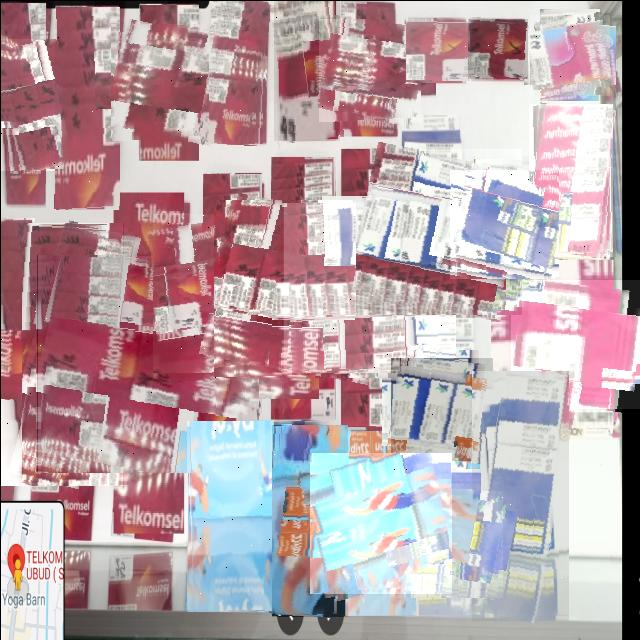Axis: (390, 357, 492, 460)
Gratis Nelpon: (355, 148, 521, 314), (471, 370, 568, 620), (449, 169, 558, 278), (395, 490, 502, 597)
Indosat-3: (529, 14, 609, 95)
Telkomsel: (39, 254, 258, 472), (214, 199, 392, 377), (285, 202, 455, 372), (21, 222, 126, 485), (152, 213, 311, 372), (110, 23, 227, 141), (54, 6, 119, 209), (0, 38, 90, 170), (318, 18, 420, 121), (273, 0, 339, 140), (0, 217, 34, 485), (208, 0, 267, 144), (405, 18, 467, 82), (467, 18, 527, 78)
byu: (309, 452, 451, 593), (186, 420, 273, 611), (271, 424, 347, 616)
smartfren: (510, 279, 639, 408), (528, 103, 612, 256)
